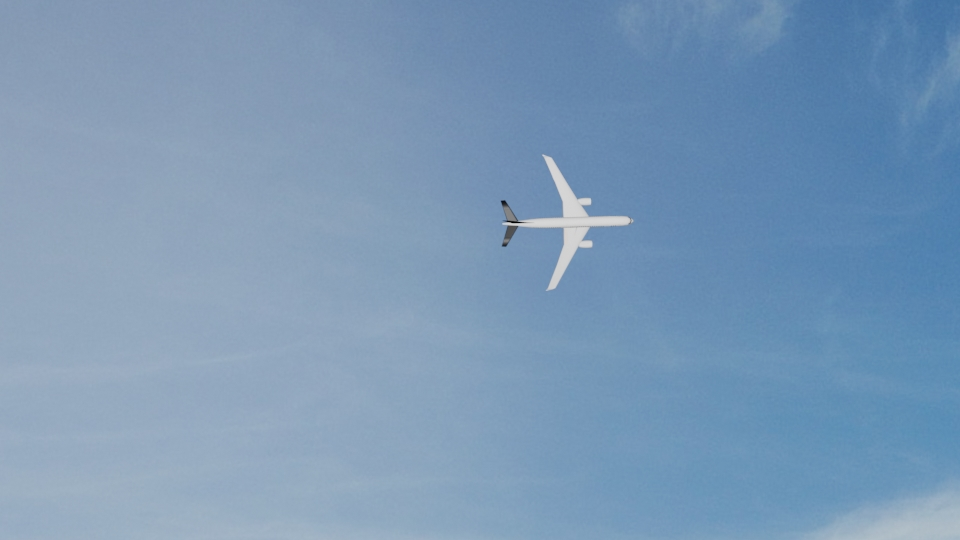plane: (496, 152, 634, 294)
